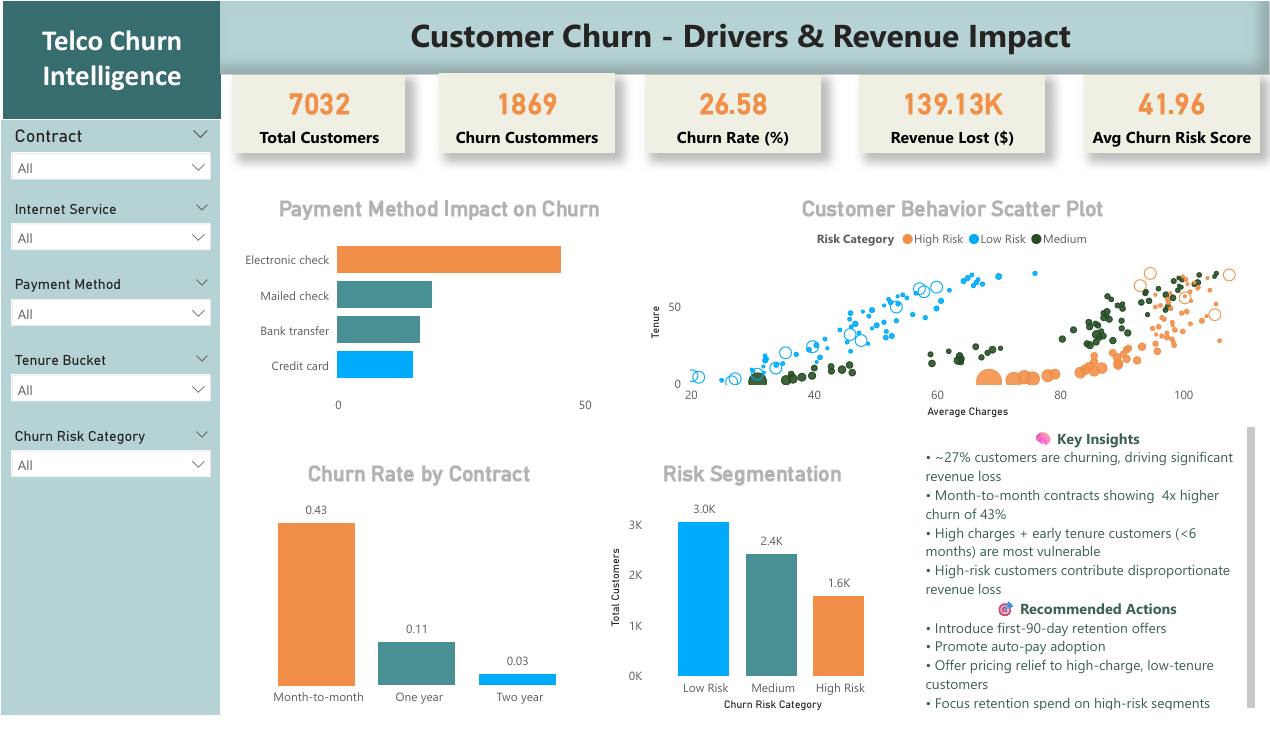

What the dashboard file says about the page in this screenshot:
{"tool":"powerbi","page":{"name":"Page 2","canvas":[1280,720],"ordinal":0},"visuals":[{"type":"textbox","title":"Telco Churn Intelligence","box":[1.4,0,219.6,119.4],"z":0},{"type":"slicer","fields":{"Values":["updated_telecom.Contract"]},"box":[0,119.4,220.9,76.8],"z":1000},{"type":"slicer","fields":{"Values":["updated_telecom.InternetService"]},"box":[0,196.2,220.9,76.8],"z":2000},{"type":"slicer","fields":{"Values":["updated_telecom.PaymentMethod"]},"box":[0,271.7,220.9,76.8],"z":3000},{"type":"slicer","fields":{"Values":["updated_telecom.Tenure Bucket"]},"box":[0,348.5,220.9,76.8],"z":4000},{"type":"card","fields":{"Values":["updated_telecom.Total Customers"]},"box":[233.3,72.7,174.3,79.6],"z":5000},{"type":"card","fields":{"Values":["updated_telecom.Churn Rate %"]},"box":[650.4,72.7,177,79.6],"z":6000},{"type":"card","fields":{"Values":["updated_telecom.Revenue Lost"]},"box":[867.2,72.7,186.6,79.6],"z":7000},{"type":"card","fields":{"Values":["updated_telecom.Avg Churn Risk Score"]},"box":[1093.7,72.7,177,79.6],"z":8000},{"type":"columnChart","title":"Churn Rate by Contract","fields":{"Category":["updated_telecom.Contract"],"Y":["updated_telecom.Churn Rate"]},"box":[233.3,463.8,376,256.6],"z":9000},{"type":"clusteredBarChart","title":"Payment Method Impact on Churn","fields":{"Category":["updated_telecom.PaymentMethod"],"Y":["updated_telecom.Churn Rate %"]},"box":[233.3,196.2,417.2,229.2],"z":10000},{"type":"scatterChart","title":"Customer Behavior Scatter Plot","fields":{"X":["Avg(updated_telecom.MonthlyCharges)"],"Series":["updated_telecom.Churn Risk Category"],"Y":["updated_telecom.Tenure"],"Size":["updated_telecom.Churn Custommers"]},"box":[650.4,196.2,620.2,229.2],"z":11000},{"type":"columnChart","title":"Risk Segmentation","fields":{"Category":["updated_telecom.Churn Risk Category"],"Y":["updated_telecom.Total Customers"]},"box":[609.3,463.8,296.4,256.6],"z":12000},{"type":"textbox","box":[220.9,0,1059.4,72.7],"z":13000},{"type":"card","fields":{"Values":["updated_telecom.Churn Custommers"]},"box":[441.9,72.7,177,79.6],"z":14000},{"type":"slicer","fields":{"Values":["updated_telecom.Churn Risk Category"]},"box":[0,425.4,220.9,76.8],"z":15000},{"type":"textbox","box":[0,502.2,220.9,218.2],"z":16000},{"type":"textbox","box":[927.6,425.4,343.1,295],"z":17000}]}

Visuals, with their boxes in screenshot pixels (x1, y1, x2, y2), scaled from the page's 1280x720 canvas onto the 1270x729 screenshot:
"Telco Churn Intelligence" textbox: (1,0,219,121)
slicer - updated_telecom.Contract: (0,121,219,199)
slicer - updated_telecom.InternetService: (0,199,219,276)
slicer - updated_telecom.PaymentMethod: (0,275,219,353)
slicer - updated_telecom.Tenure Bucket: (0,353,219,431)
card - updated_telecom.Total Customers: (231,74,404,154)
card - updated_telecom.Churn Rate %: (645,74,821,154)
card - updated_telecom.Revenue Lost: (860,74,1046,154)
card - updated_telecom.Avg Churn Risk Score: (1085,74,1261,154)
"Churn Rate by Contract" columnChart: (231,470,605,728)
"Payment Method Impact on Churn" clusteredBarChart: (231,199,645,431)
"Customer Behavior Scatter Plot" scatterChart: (645,199,1261,431)
"Risk Segmentation" columnChart: (605,470,899,728)
textbox: (219,0,1269,74)
card - updated_telecom.Churn Custommers: (438,74,614,154)
slicer - updated_telecom.Churn Risk Category: (0,431,219,508)
textbox: (0,508,219,728)
textbox: (920,431,1261,728)
